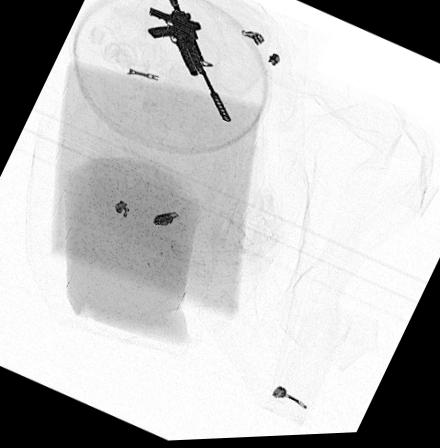Gun: (145, 0, 232, 122)
